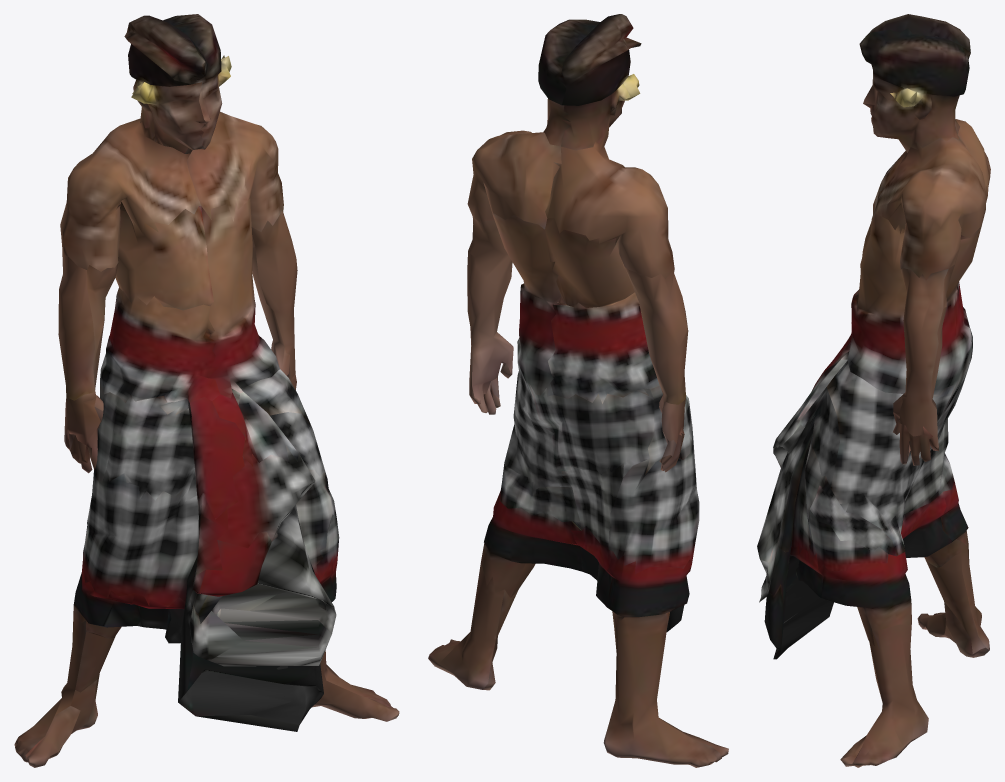
File: penari_kecak_idle_lod2.glb
3 renders of one model, left to right at view 1: azimuth 30°, elevation 25°; view 2: azimuth 150°, elevation 25°; view 3: azimuth 270°, elevation 25°, orthographic. The views are drawn at different scales.
Visible parts, largest first — view 1: tripo_node_ac7db75d-6cfe-4be4-a2d9-8f6c44a57130; view 2: tripo_node_ac7db75d-6cfe-4be4-a2d9-8f6c44a57130; view 3: tripo_node_ac7db75d-6cfe-4be4-a2d9-8f6c44a57130.
Part boxes in pixels (<box>): tripo_node_ac7db75d-6cfe-4be4-a2d9-8f6c44a57130: <box>14,14,399,767</box>; tripo_node_ac7db75d-6cfe-4be4-a2d9-8f6c44a57130: <box>428,14,728,767</box>; tripo_node_ac7db75d-6cfe-4be4-a2d9-8f6c44a57130: <box>757,14,990,767</box>.
Size of the model in its own units: 47.59 by 99.03 by 31.59.
Materials: 1 (1 with a texture image).
